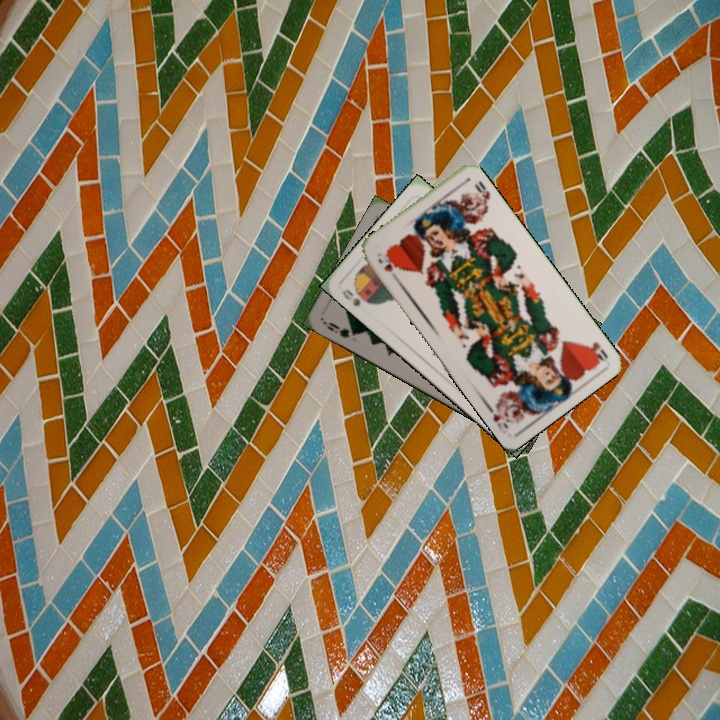G9: (320, 318, 360, 340)
HO: (583, 338, 610, 365), (374, 250, 398, 275)
SO: (338, 285, 376, 309)
